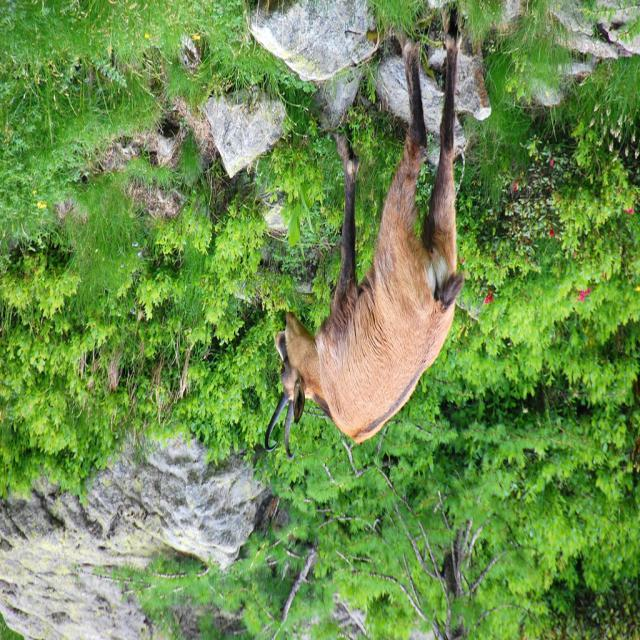Goat: (263, 5, 465, 461)
